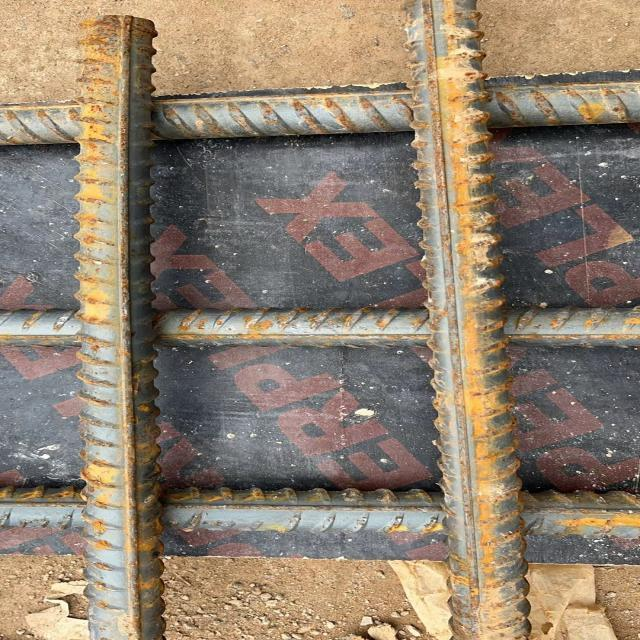ribbed bar: (401, 0, 535, 639), (75, 14, 169, 640), (0, 81, 639, 147), (0, 485, 639, 540), (0, 306, 639, 346)
